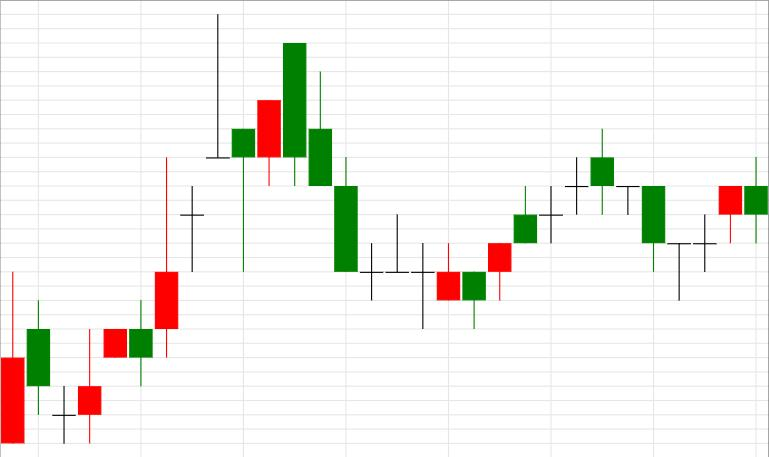bearish_engulfing_fall: (52, 14, 306, 446)
hanging_man_fall: (52, 14, 255, 446)
